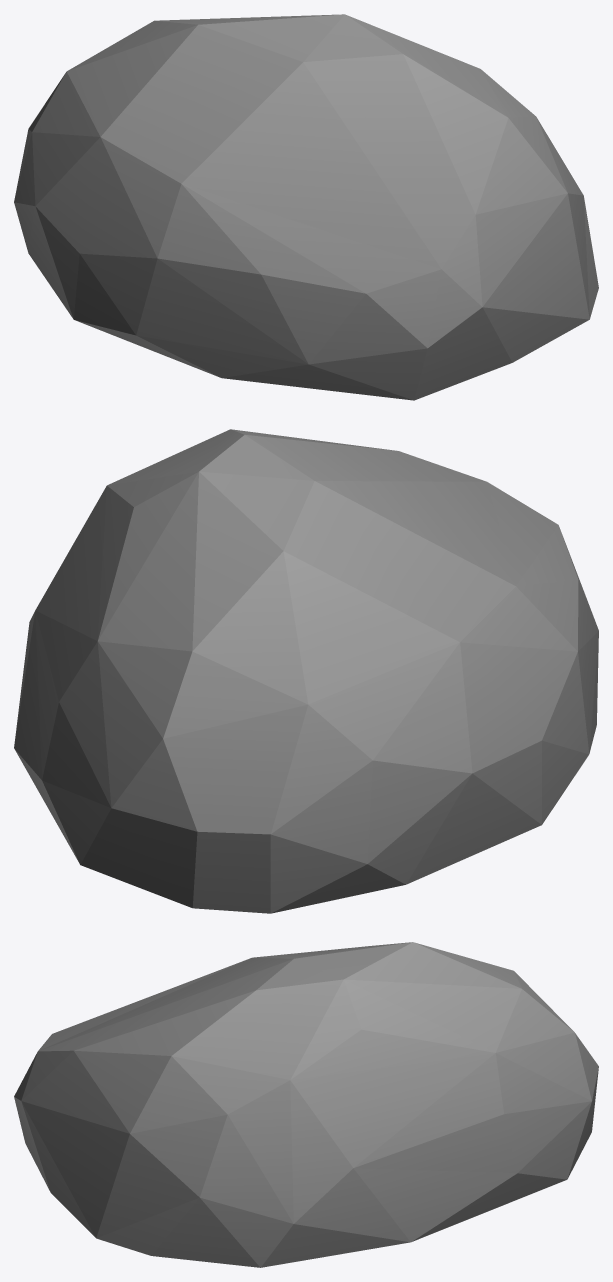
File: Stone_average_011.fbx
3 views of the same model, one above another, from view 1: azimuth 30°, elevation 25°; view 2: azimuth 150°, elevation 25°; view 3: azimuth 270°, elevation 25° (orthographic). The views are drawn at different scales.
Visible parts, largest first — view 1: Stone_average_01; view 2: Stone_average_01; view 3: Stone_average_01.
Part boxes in pixels (x1,y1,x2,y2): Stone_average_01: (14, 14, 598, 400); Stone_average_01: (14, 429, 598, 913); Stone_average_01: (14, 942, 598, 1267).
Size of the model in its own units: 184 by 89.93 by 226.
